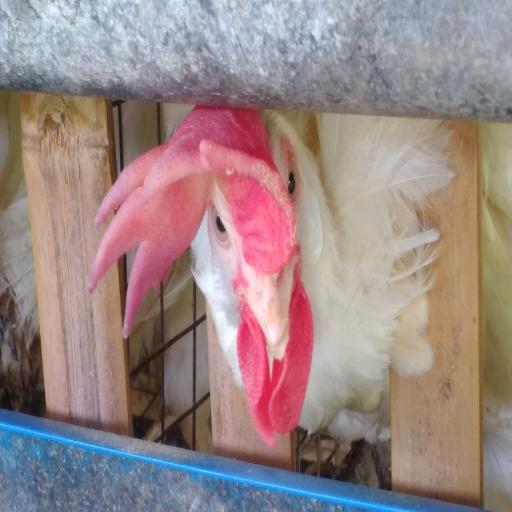disease: (204, 124, 306, 267)
